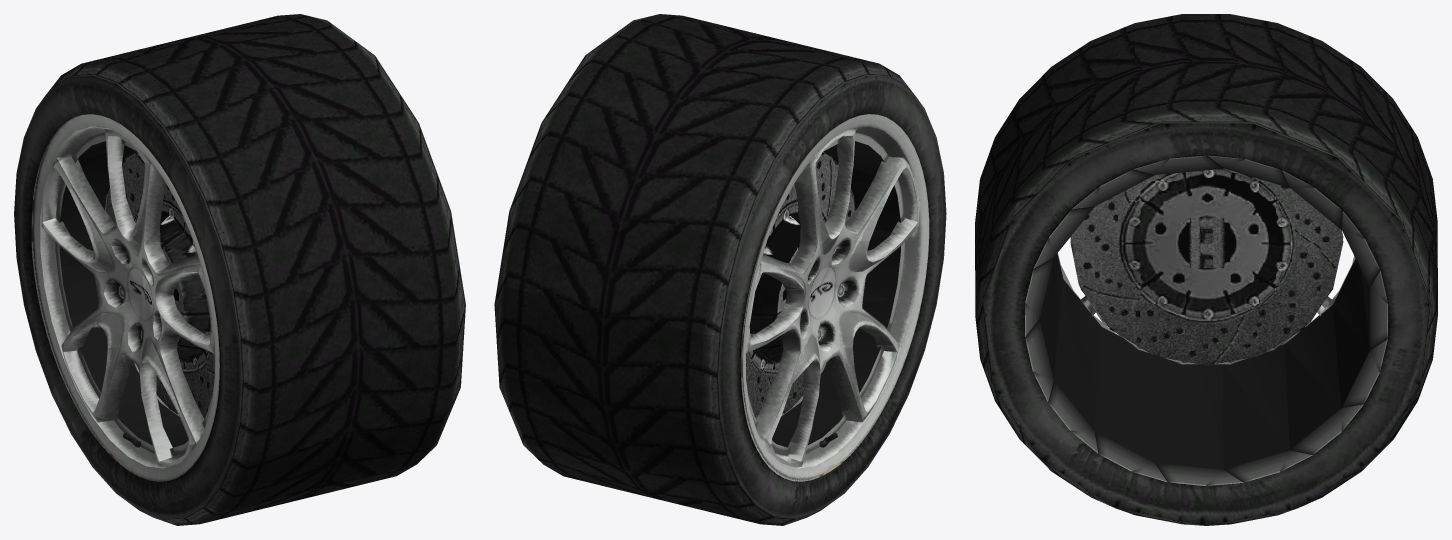
Rendered from PorscheWheelNormal.obj.
The picture shows the model from 3 angles, left to right: view 1: azimuth 30°, elevation 25°; view 2: azimuth 150°, elevation 25°; view 3: azimuth 270°, elevation 25°; orthographic projection. The views are drawn at different scales.
Parts seen in each view (by area): view 1: part_025; view 2: part_025; view 3: part_025.
Boxes of the visible parts, x1,y1,x2,y2 form: part_025: (14,14,465,525); part_025: (494,14,946,525); part_025: (975,14,1437,525).
Size of the model in its own units: 0.3663 by 0.6573 by 0.6613.
